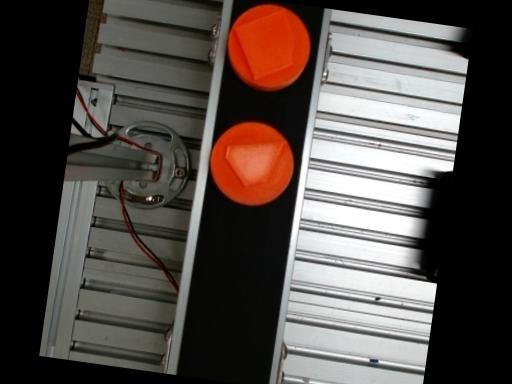Not_Square: (235, 7, 297, 79), (225, 139, 287, 186)
Orange_Waper: (228, 3, 311, 90), (212, 121, 293, 204)
